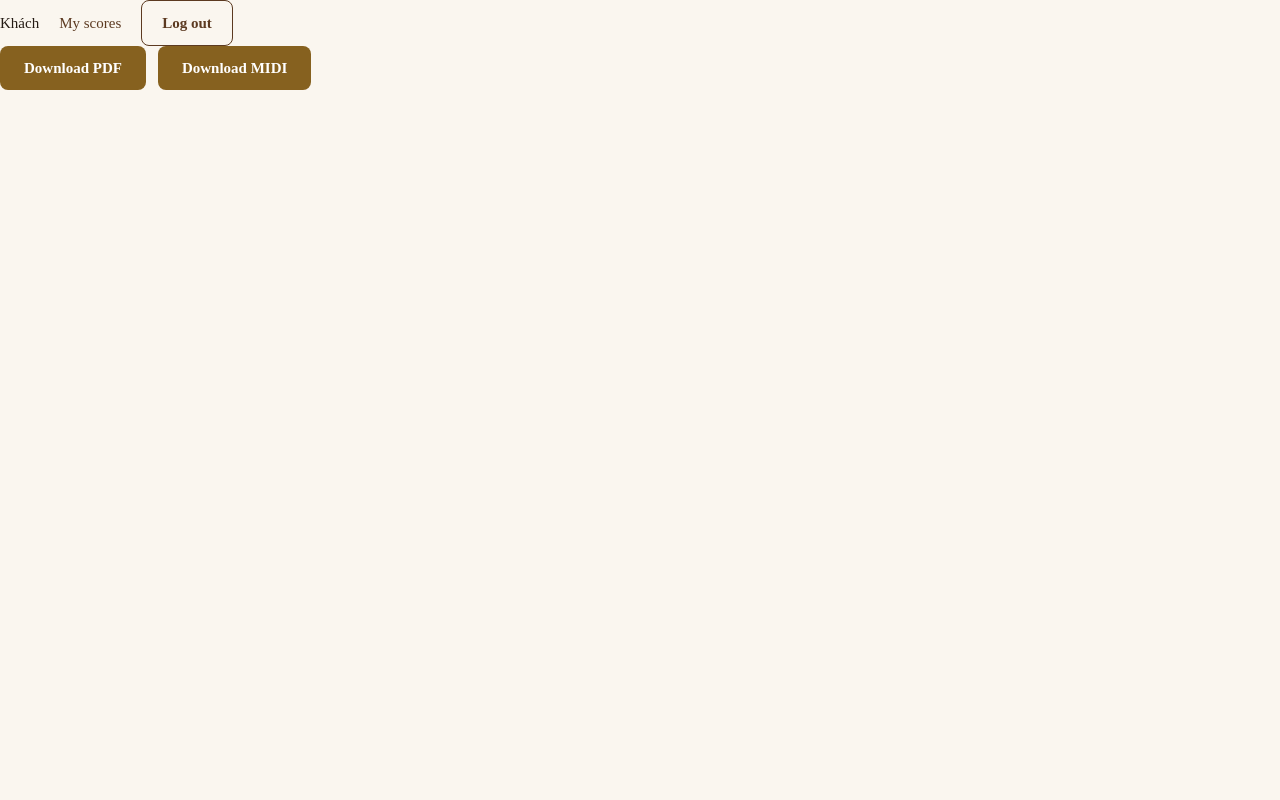
it: Tài khoản khách (web) › tải trả 401 (phiên hết hạn): mở modal đăng nhập, về trạng thái chưa đăng nhập, không báo lỗi tải
expect the text "Khách" is shown: met, box 0,11 -> 39,35
Click the button "Download PDF" at point(73, 68), box 0,46 -> 146,90
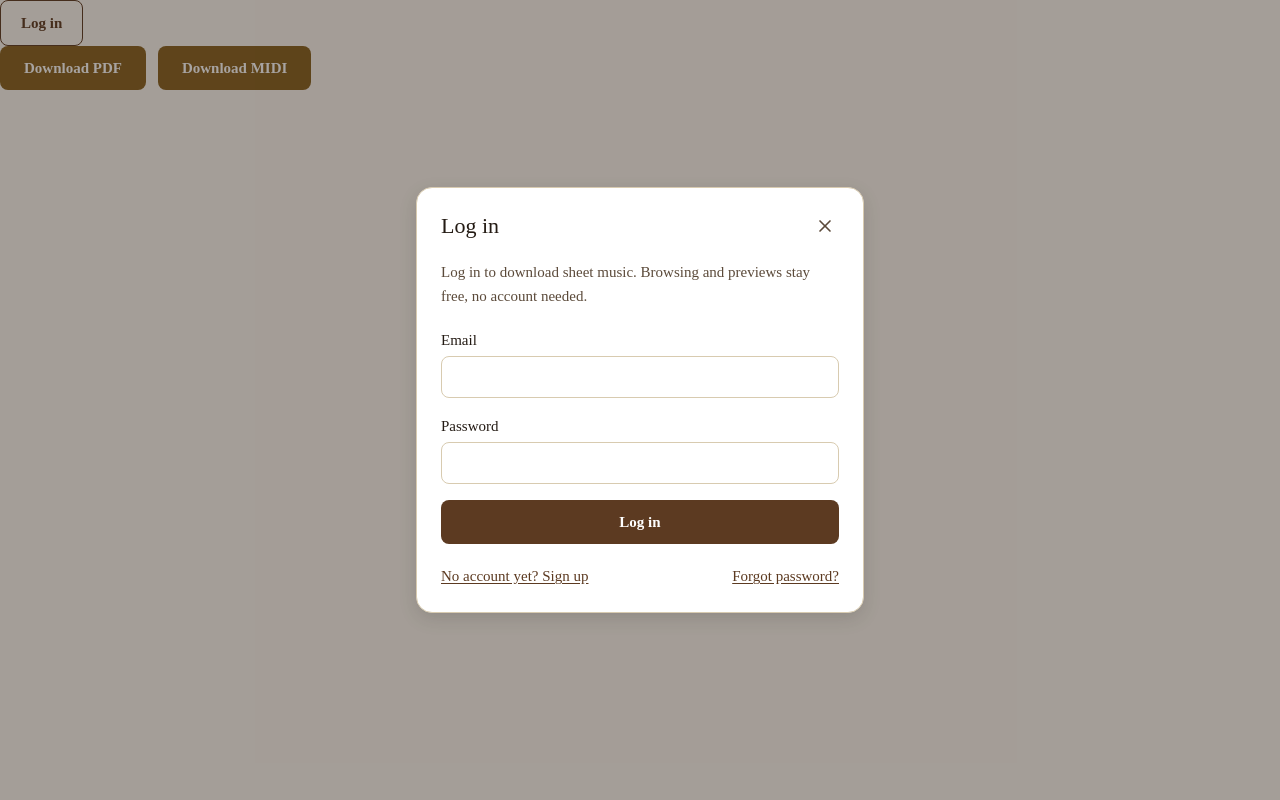
expect the dialog is shown: met, box 416,187 -> 864,613
expect the 1st button "Log in" is shown: met, box 0,0 -> 83,46
